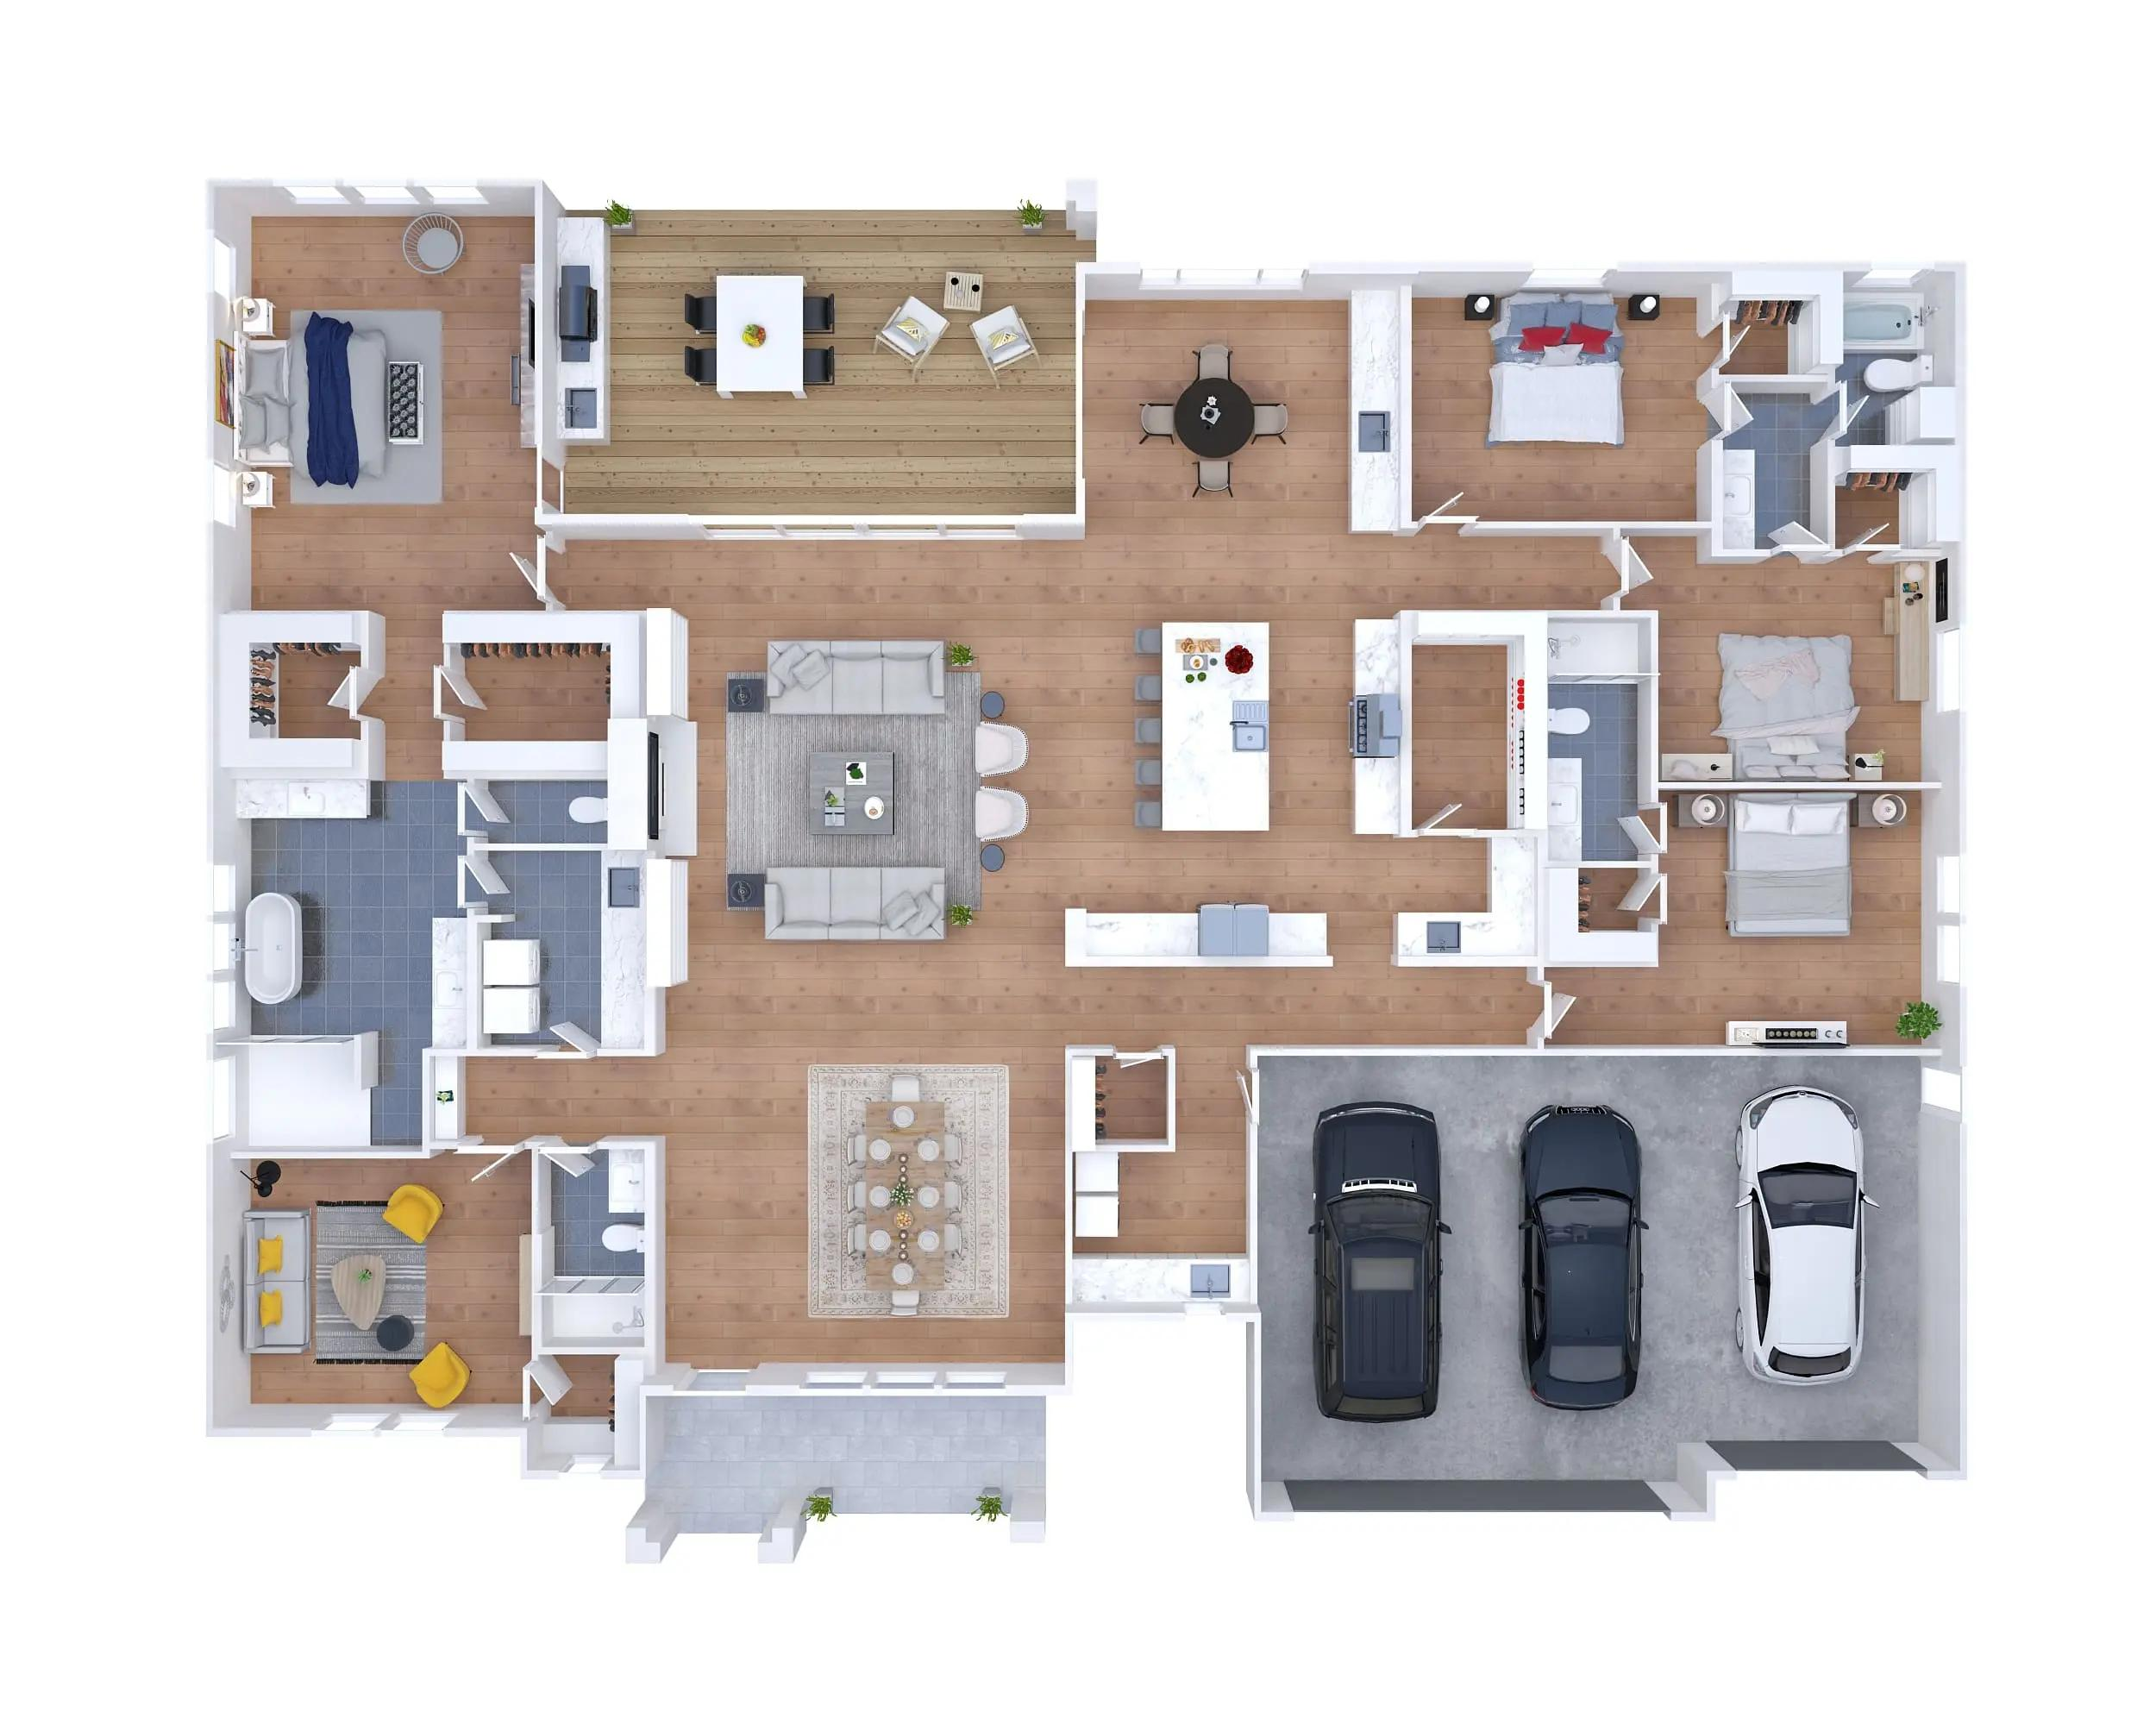room: (227, 621, 651, 1148), (232, 195, 551, 618), (1536, 782, 1954, 1053), (1536, 526, 1950, 782), (229, 1158, 532, 1422), (1408, 268, 1718, 523), (1829, 268, 1959, 456), (537, 1148, 649, 1354), (1723, 380, 1832, 549)
